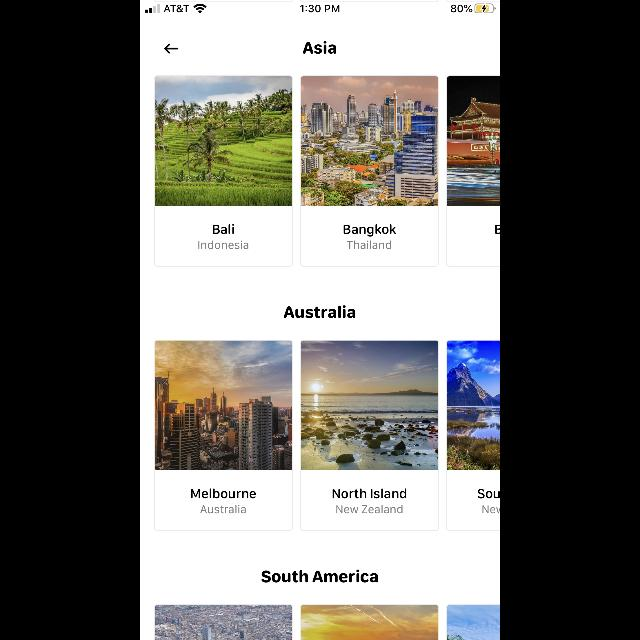icon: (164, 44, 178, 54)
image: (302, 76, 438, 206), (156, 76, 292, 206), (302, 342, 438, 471), (156, 342, 292, 471), (446, 76, 499, 206), (446, 342, 499, 471), (302, 604, 438, 640), (156, 604, 292, 640), (446, 604, 499, 640)
text: (262, 570, 378, 582), (284, 306, 356, 318), (333, 489, 407, 499), (344, 225, 396, 238), (337, 504, 403, 514), (192, 489, 256, 499), (199, 240, 249, 250), (200, 504, 246, 514), (346, 240, 392, 250), (304, 41, 336, 54), (213, 224, 234, 234), (478, 489, 500, 498), (482, 505, 500, 513)
uppertaskbar: (140, 0, 500, 14)
